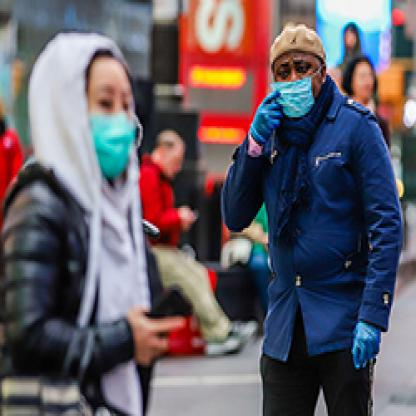Wearing_Mask: (66, 55, 142, 184), (271, 38, 320, 117)
